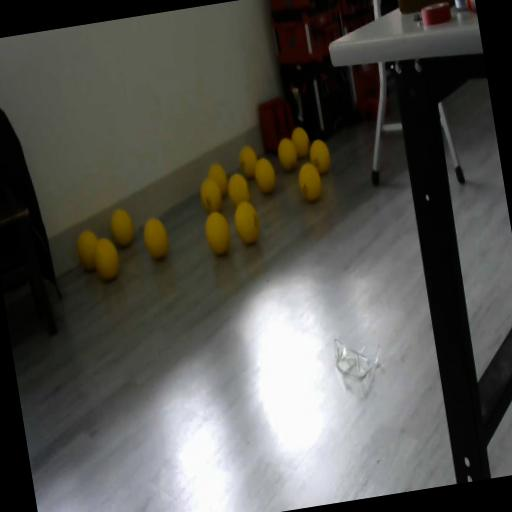FUEL: (200, 206, 234, 258), (230, 197, 262, 246), (90, 234, 122, 282), (140, 214, 172, 261), (294, 160, 324, 204), (108, 206, 136, 247), (224, 170, 251, 208), (252, 156, 278, 194), (306, 137, 332, 175), (274, 134, 300, 172), (205, 160, 230, 198), (236, 143, 260, 179), (288, 124, 312, 159)
